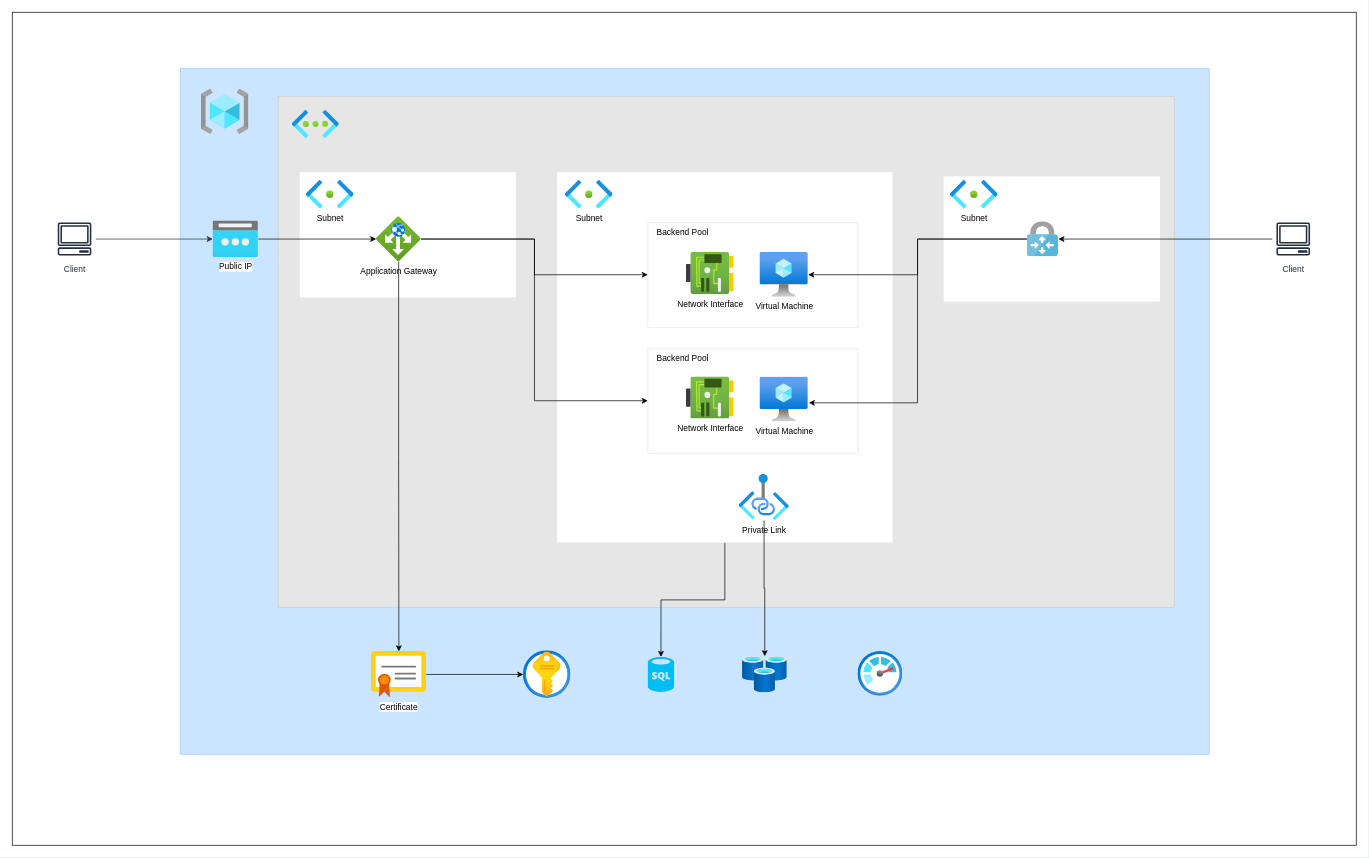
Image size: 1369x858. Some labels were removed from this diagram. The shapes that lost their labels are listed below. From the top down, each one's box as (x1, y1, x2, y2) in pixels, then its label:
(201, 89, 248, 134): Resource Group
(292, 110, 339, 138): Virtual Network
(1027, 221, 1058, 256): VPN Gateway
(523, 650, 570, 698): Key Vault
(648, 657, 674, 692): SQL Database
(742, 656, 787, 692): Redis Cache
(858, 651, 902, 696): Monitor
